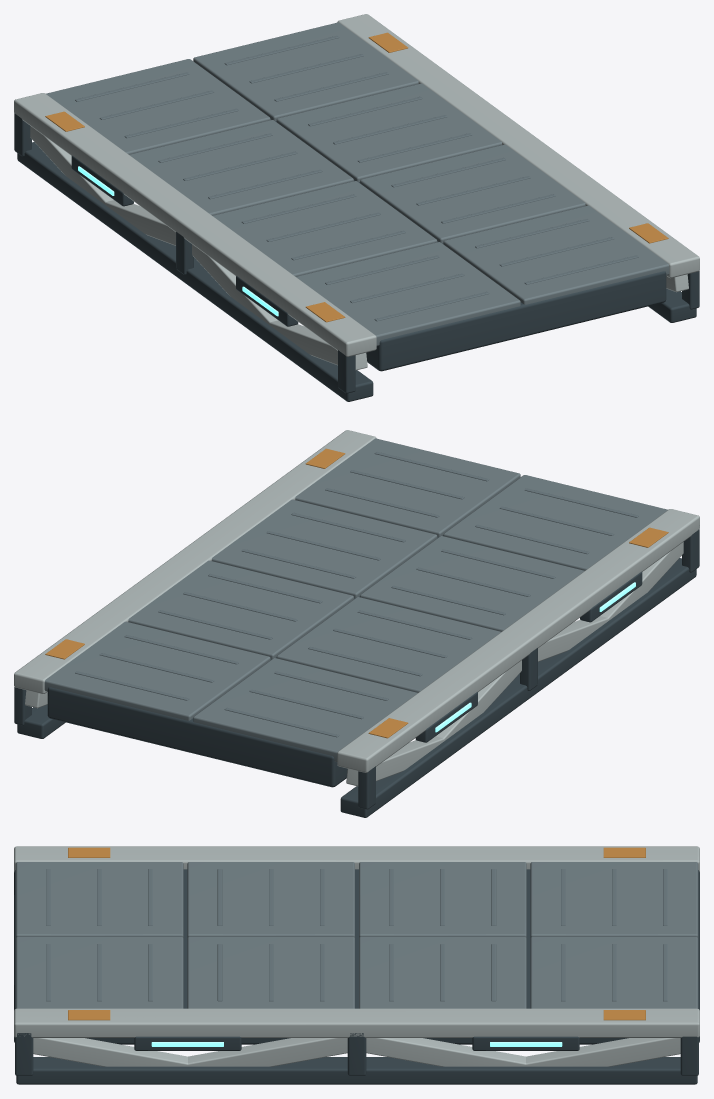
The model's file is CatwalkSpan.fbx.
3 views of the same model, one above another, from view 1: azimuth 30°, elevation 25°; view 2: azimuth 150°, elevation 25°; view 3: azimuth 270°, elevation 25° (orthographic). The views are drawn at different scales.
Visible parts, largest first — view 1: FoundryFloor Mesh, FoundryCeramic Mesh, FoundryFrame Mesh, FoundryFloorAlt Mesh, CatwalkSafetyPaint Mesh; view 2: FoundryFloor Mesh, FoundryCeramic Mesh, FoundryFrame Mesh, FoundryFloorAlt Mesh, CatwalkSafetyPaint Mesh; view 3: FoundryFloor Mesh, FoundryCeramic Mesh, FoundryFrame Mesh, FoundryFloorAlt Mesh, CatwalkSafetyPaint Mesh, CatwalkMarkerGlow Mesh.
Part boxes in pixels (x1,y1,x2,y2): FoundryFloor Mesh: (46, 22, 669, 345); FoundryCeramic Mesh: (14, 14, 699, 370); FoundryFrame Mesh: (14, 113, 699, 401); FoundryFloorAlt Mesh: (75, 35, 638, 321); CatwalkSafetyPaint Mesh: (45, 32, 668, 322); FoundryFloor Mesh: (44, 438, 667, 761); FoundryCeramic Mesh: (14, 430, 699, 786); FoundryFrame Mesh: (14, 529, 699, 817); FoundryFloorAlt Mesh: (75, 451, 638, 737); CatwalkSafetyPaint Mesh: (45, 448, 668, 738); FoundryFloor Mesh: (15, 862, 698, 1008); FoundryCeramic Mesh: (14, 846, 699, 1066); FoundryFrame Mesh: (14, 869, 699, 1084); FoundryFloorAlt Mesh: (46, 869, 667, 1001); CatwalkSafetyPaint Mesh: (68, 847, 645, 1020); CatwalkMarkerGlow Mesh: (151, 1042, 562, 1046).
Bounding box in the file's own units: 2.42 × 0.402 × 3.9.
